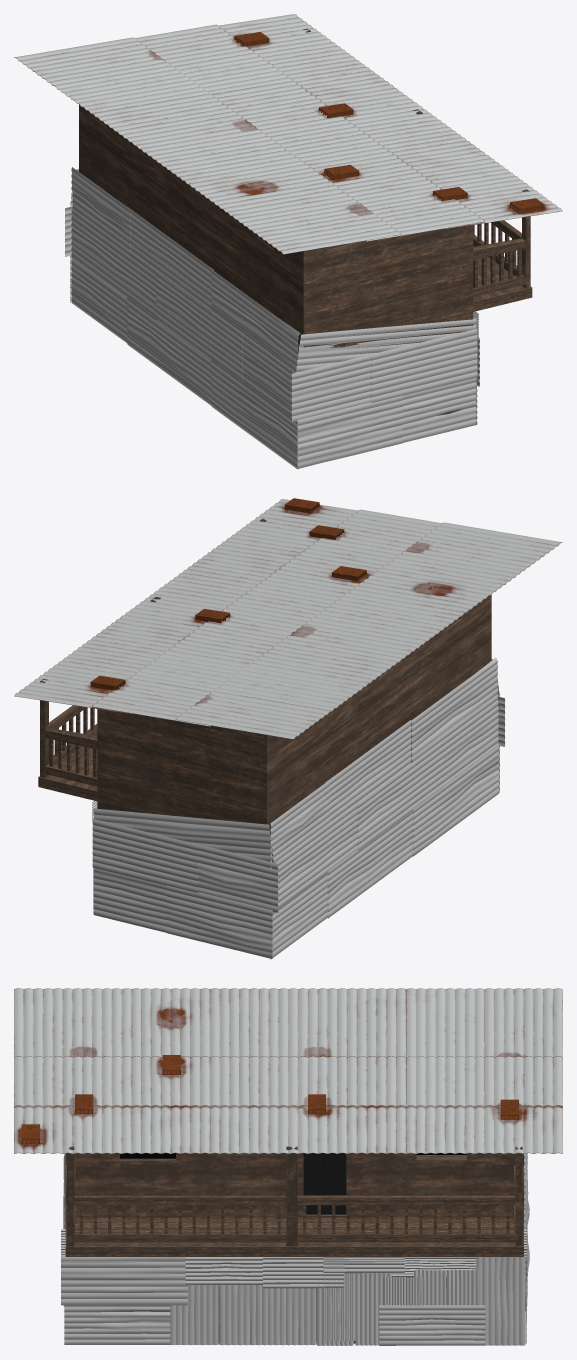
Rendered from Casa03.fbx.
The picture shows the model from 3 angles, top to bottom: view 1: azimuth 30°, elevation 25°; view 2: azimuth 150°, elevation 25°; view 3: azimuth 270°, elevation 25°; orthographic projection.
Parts seen in each view (by area): view 1: Techo_1.001, Pared_zing.001, Casa 03; view 2: Techo_1.001, Pared_zing.001, Casa 03; view 3: Techo_1.001, Casa 03, Pared_zing.001.
Part boxes in pixels (x1,y1,x2,y2): Techo_1.001: (14, 14, 562, 254); Pared_zing.001: (65, 167, 479, 469); Casa 03: (79, 28, 532, 415); Techo_1.001: (14, 498, 562, 739); Pared_zing.001: (92, 657, 505, 959); Casa 03: (38, 518, 491, 834); Techo_1.001: (14, 988, 562, 1153); Casa 03: (65, 1146, 523, 1343); Pared_zing.001: (61, 1153, 529, 1345).
Bounding box in the file's own units: 3637 × 3032 × 6055.
